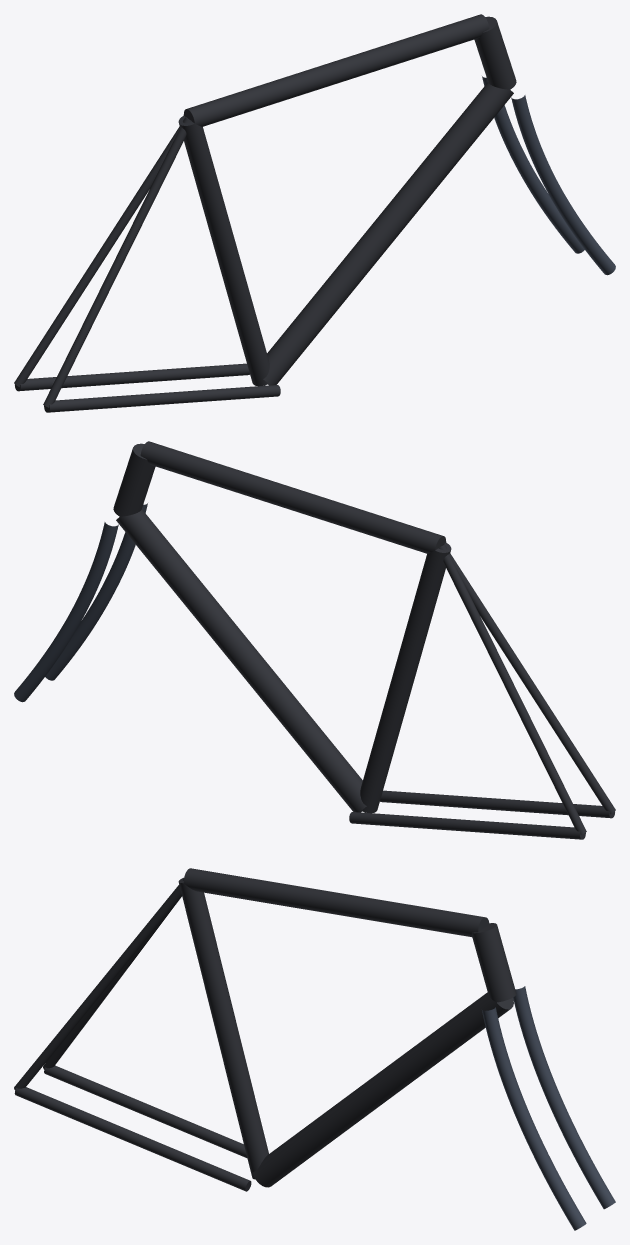
Rendered from state-black-label-v3-49.glb.
The picture shows the model from 3 angles, top to bottom: view 1: azimuth 30°, elevation 25°; view 2: azimuth 150°, elevation 25°; view 3: azimuth 330°, elevation 25°; orthographic projection.
Parts seen in each view (by area): view 1: paint_down, paint_top, paint_seat, paint_seatstay_0.045, fork_0.045, paint_chainstay_0.045, paint_chainstay_-0.045, paint_seatstay_-0.045, fork_-0.045, paint_head; view 2: paint_down, paint_top, paint_seat, paint_seatstay_-0.045, fork_-0.045, paint_chainstay_-0.045, paint_chainstay_0.045, paint_seatstay_0.045, fork_0.045, paint_head; view 3: paint_down, paint_top, paint_seat, fork_0.045, fork_-0.045, paint_chainstay_0.045, paint_chainstay_-0.045, paint_seatstay_0.045, paint_head, paint_seatstay_-0.045.
Boxes of the visible parts, left/top/right/bottom form: paint_down: left=263, top=82, right=513, bottom=385; paint_top: left=183, top=14, right=489, bottom=126; paint_seat: left=178, top=115, right=269, bottom=386; paint_seatstay_0.045: left=43, top=118, right=191, bottom=407; fork_0.045: left=511, top=95, right=615, bottom=275; paint_chainstay_0.045: left=44, top=385, right=280, bottom=412; paint_chainstay_-0.045: left=15, top=363, right=249, bottom=391; paint_seatstay_-0.045: left=14, top=117, right=188, bottom=387; fork_-0.045: left=482, top=76, right=584, bottom=253; paint_head: left=474, top=16, right=516, bottom=89; paint_down: left=116, top=509, right=366, bottom=812; paint_top: left=140, top=441, right=446, bottom=553; paint_seat: left=360, top=542, right=451, bottom=813; paint_seatstay_-0.045: left=438, top=545, right=586, bottom=834; fork_-0.045: left=14, top=522, right=118, bottom=702; paint_chainstay_-0.045: left=349, top=812, right=585, bottom=839; paint_chainstay_0.045: left=380, top=790, right=614, bottom=818; paint_seatstay_0.045: left=441, top=544, right=615, bottom=814; fork_0.045: left=45, top=503, right=147, bottom=680; paint_head: left=113, top=443, right=155, bottom=516; paint_down: left=252, top=992, right=513, bottom=1187; paint_top: left=183, top=868, right=489, bottom=936; paint_seat: left=178, top=877, right=268, bottom=1179; fork_0.045: left=482, top=1007, right=586, bottom=1230; fork_-0.045: left=513, top=986, right=615, bottom=1209; paint_chainstay_0.045: left=14, top=1087, right=251, bottom=1191; paint_chainstay_-0.045: left=44, top=1065, right=247, bottom=1157; paint_seatstay_0.045: left=14, top=879, right=183, bottom=1090; paint_head: left=472, top=923, right=516, bottom=1002; paint_seatstay_-0.045: left=43, top=896, right=181, bottom=1069.
Bounding box in the file's own units: 1.01 × 0.5432 × 0.112.
